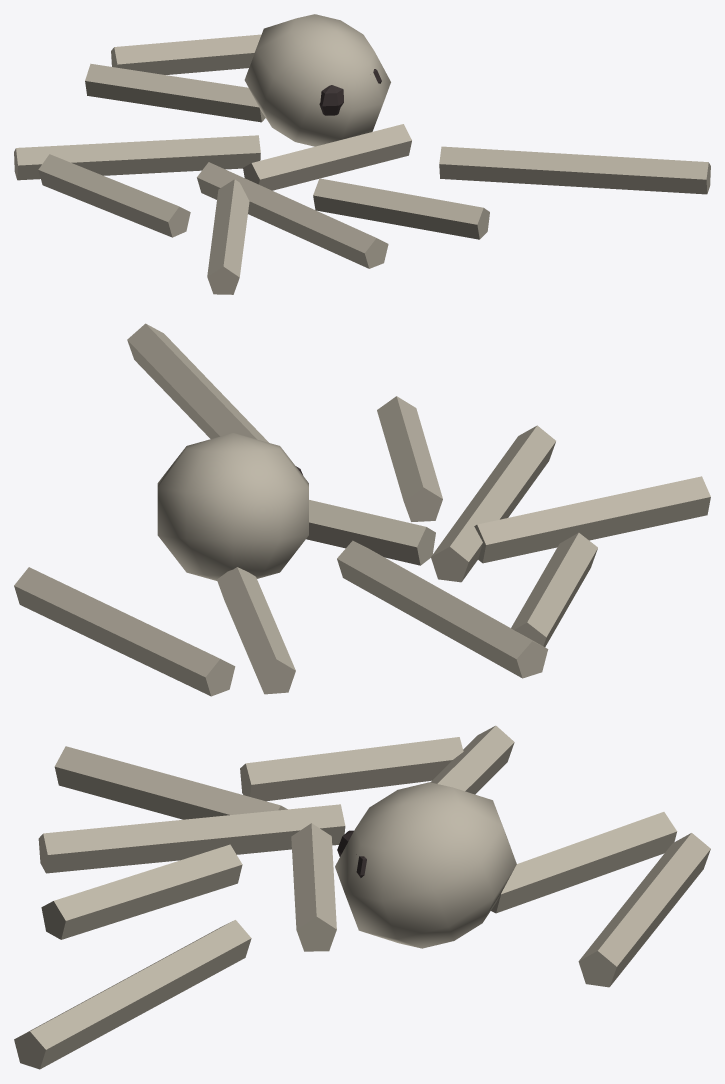
Rendered from bones.glb.
3 renders of one model, top to bottom at view 1: azimuth 30°, elevation 25°; view 2: azimuth 150°, elevation 25°; view 3: azimuth 270°, elevation 25°, orthographic. The views are drawn at different scales.
Visible parts, largest first — view 1: bones; view 2: bones; view 3: bones.
Part boxes in pixels (box(x1,y1,x2,y2)): bones: box(14, 14, 710, 294); bones: box(14, 323, 710, 696); bones: box(14, 725, 710, 1069).
Bounding box in the file's own units: 1.05 × 0.2215 × 0.9815.
